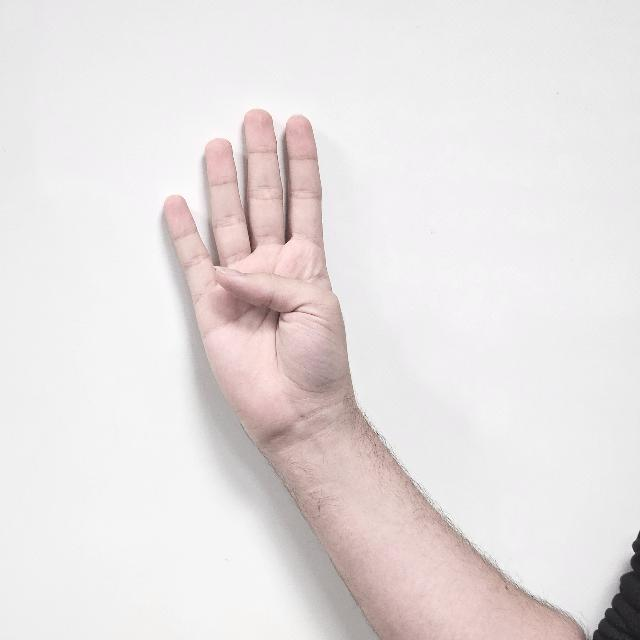Baixo: (156, 102, 358, 424)
